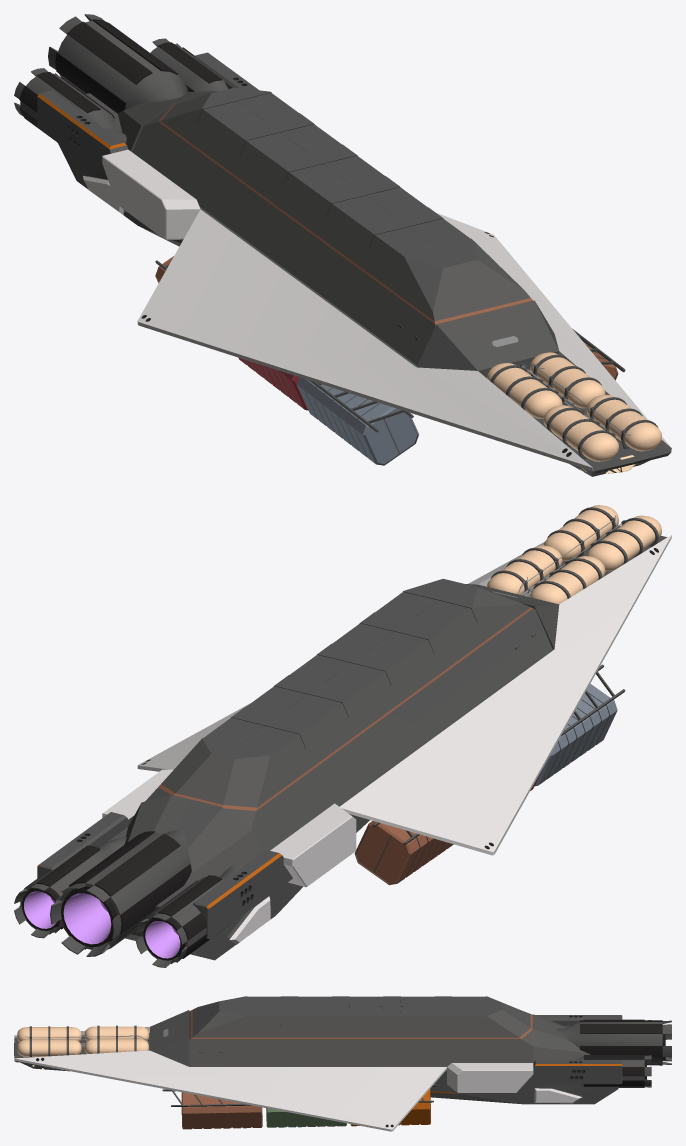
The model's file is Guild-Crash_Test_2_Transporter-Fune-Class.fbx.
3 views of the same model, one above another, from view 1: azimuth 30°, elevation 25°; view 2: azimuth 150°, elevation 25°; view 3: azimuth 270°, elevation 25° (orthographic). The views are drawn at different scales.
Parts seen in each view (by area): view 1: Hull.001, CargoBody.001, LiquidStorage, Engines, LargeUnpressurizedContainer.002, Engines.001, CargoBodyHatch.004, CargoBodyHatch.003, CargoBodyHatch.002, CargoBodyHatch.001, CargoBodyHatch, LargeUnpressurizedContainer.001 (+6 smaller); view 2: Hull.001, CargoBody.001, Engines, LiquidStorage, Engines.001, LargeUnpressurizedContainer, LargeUnpressurizedContainer.002, CargoBodyHatch.004, CargoBodyHatch.003, CargoBodyHatch.002, CargoBodyHatch.001, CargoBodyHatch (+5 smaller); view 3: Hull.001, CargoBody.001, Engines, LiquidStorage, LargeUnpressurizedContainer.002, Engines.001, LargeUnpressurizedContainer.001, CargoBodyHatch.007, CargoBodyHatch.008, CargoBodyHatch.006, CargoBodyHatch.005, CargoBodyHatch.009 (+7 smaller).
Part boxes in pixels (x1,y1,x2,y2): Hull.001: (37, 52, 671, 476); CargoBody.001: (132, 87, 532, 365); LiquidStorage: (487, 352, 661, 461); Engines: (48, 14, 188, 113); LargeUnpressurizedContainer.002: (297, 341, 618, 465); Engines.001: (14, 38, 228, 153); CargoBodyHatch.004: (197, 101, 264, 143); CargoBodyHatch.003: (240, 132, 307, 175); CargoBodyHatch.002: (283, 164, 350, 206); CargoBodyHatch.001: (326, 195, 393, 238); CargoBodyHatch: (369, 227, 436, 269); LargeUnpressurizedContainer.001: (238, 357, 308, 410); Hull.001: (37, 525, 671, 960); CargoBody.001: (145, 578, 552, 851); Engines: (50, 830, 191, 956); LiquidStorage: (487, 505, 661, 604); Engines.001: (14, 837, 243, 967); LargeUnpressurizedContainer: (354, 821, 453, 885); LargeUnpressurizedContainer.002: (535, 684, 617, 786); CargoBodyHatch.004: (238, 726, 305, 768); CargoBodyHatch.003: (281, 694, 348, 737); CargoBodyHatch.002: (324, 663, 391, 705); CargoBodyHatch.001: (367, 631, 434, 674); CargoBodyHatch: (410, 600, 476, 642); Hull.001: (14, 1010, 622, 1131); CargoBody.001: (189, 996, 533, 1066); Engines: (556, 1020, 671, 1065); LiquidStorage: (17, 1025, 148, 1057); LargeUnpressurizedContainer.002: (181, 1092, 262, 1129); Engines.001: (565, 1019, 651, 1087); LargeUnpressurizedContainer.001: (266, 1108, 346, 1127); CargoBodyHatch.007: (349, 1006, 383, 1025); CargoBodyHatch.008: (400, 1006, 434, 1025); CargoBodyHatch.006: (298, 1006, 331, 1025); CargoBodyHatch.005: (247, 1006, 280, 1025); CargoBodyHatch.009: (452, 1006, 485, 1025).
Size of the model in its own units: 28825 by 10742 by 4456.
